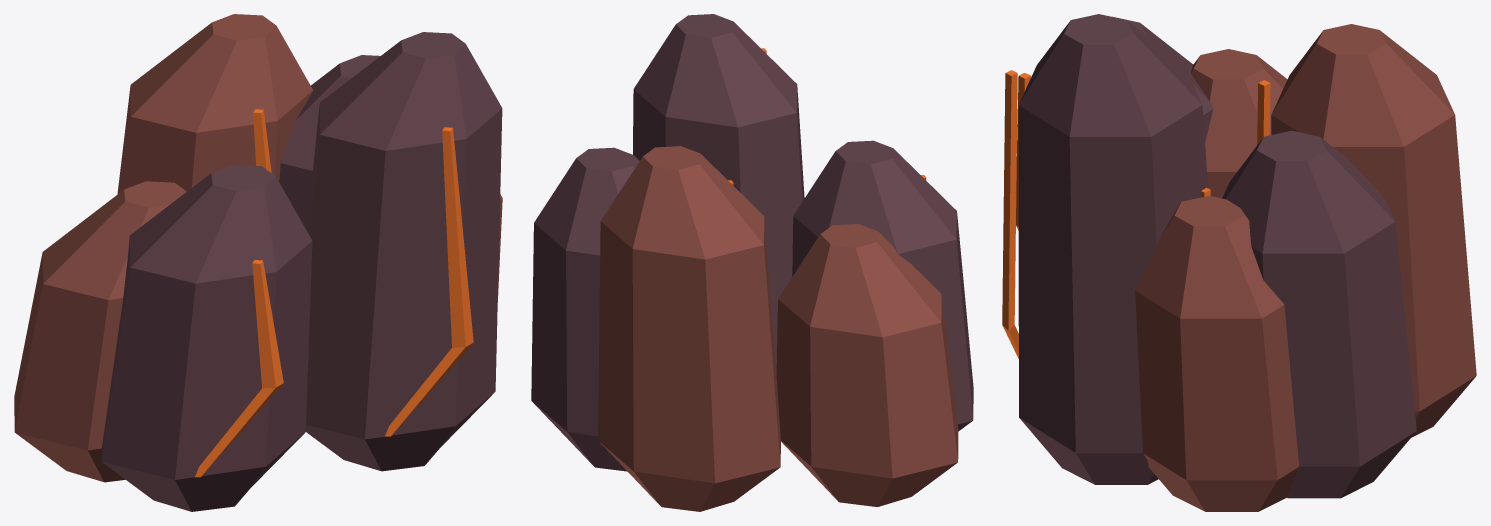
File: CoalHeart.obj
3 views of the same model, side by side, from view 1: azimuth 30°, elevation 25°; view 2: azimuth 150°, elevation 25°; view 3: azimuth 270°, elevation 25° (orthographic). The views are drawn at different scales.
Visible parts, largest first — view 1: Body; view 2: Body; view 3: Body.
Boxes of the visible parts, x1=… form: Body: x1=14, y1=14, x2=502, y2=511; Body: x1=531, y1=14, x2=973, y2=511; Body: x1=1002, y1=14, x2=1476, y2=511.
Size of the model in its own units: 0.7568 by 0.639 by 0.609.
Materials: 1 (1 with a texture image).
